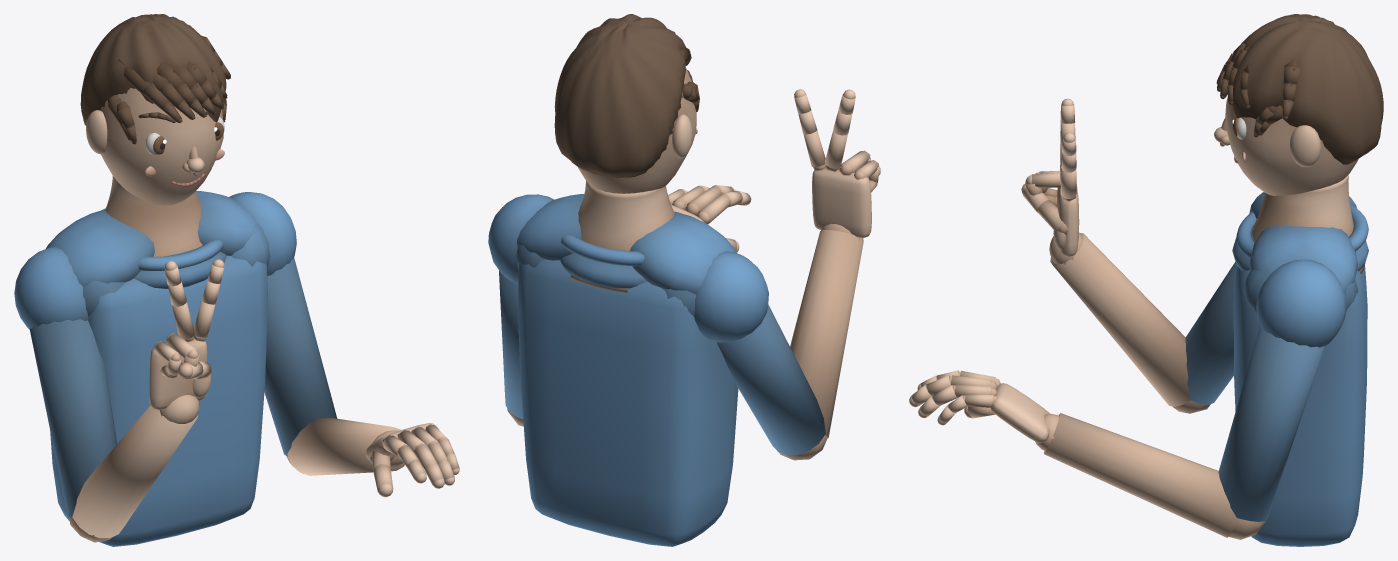
The picture shows the model from 3 angles, left to right: view 1: azimuth 30°, elevation 25°; view 2: azimuth 150°, elevation 25°; view 3: azimuth 270°, elevation 25°; orthographic projection.
Parts seen in each view (by area): view 1: LSC_Body; view 2: LSC_Body; view 3: LSC_Body.
Part boxes in pixels (box(x1,y1,x2,y2)): LSC_Body: box(14, 14, 459, 546); LSC_Body: box(488, 14, 880, 546); LSC_Body: box(909, 14, 1383, 546).
Bounding box in the file's own units: 0.4304 × 0.713 × 0.6104.
